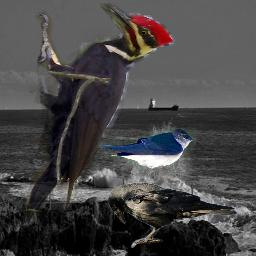Crow: (108, 182, 239, 248)
Swallow: (98, 128, 196, 176)
Woodpecker: (23, 3, 175, 224)
